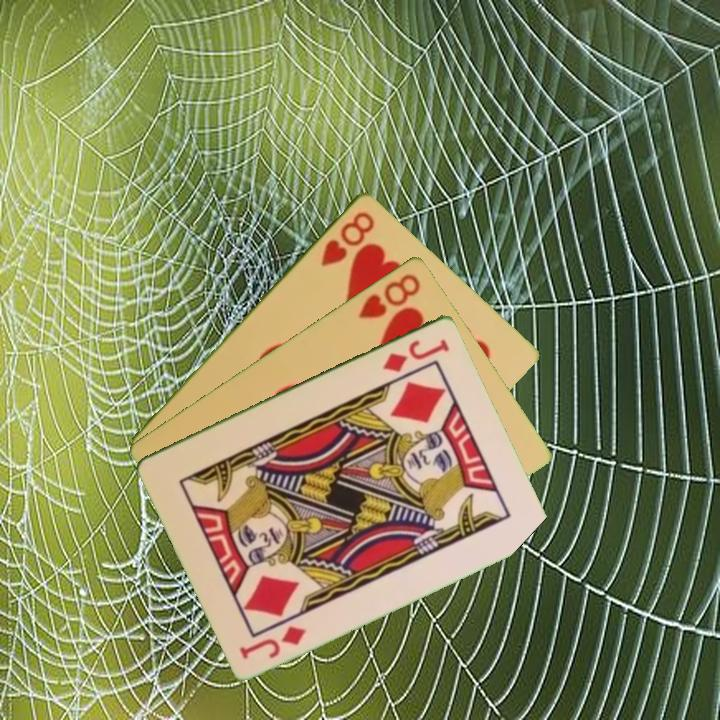8h: (317, 207, 378, 269), (354, 269, 424, 321)
Jd: (235, 621, 309, 662), (379, 335, 453, 375)
